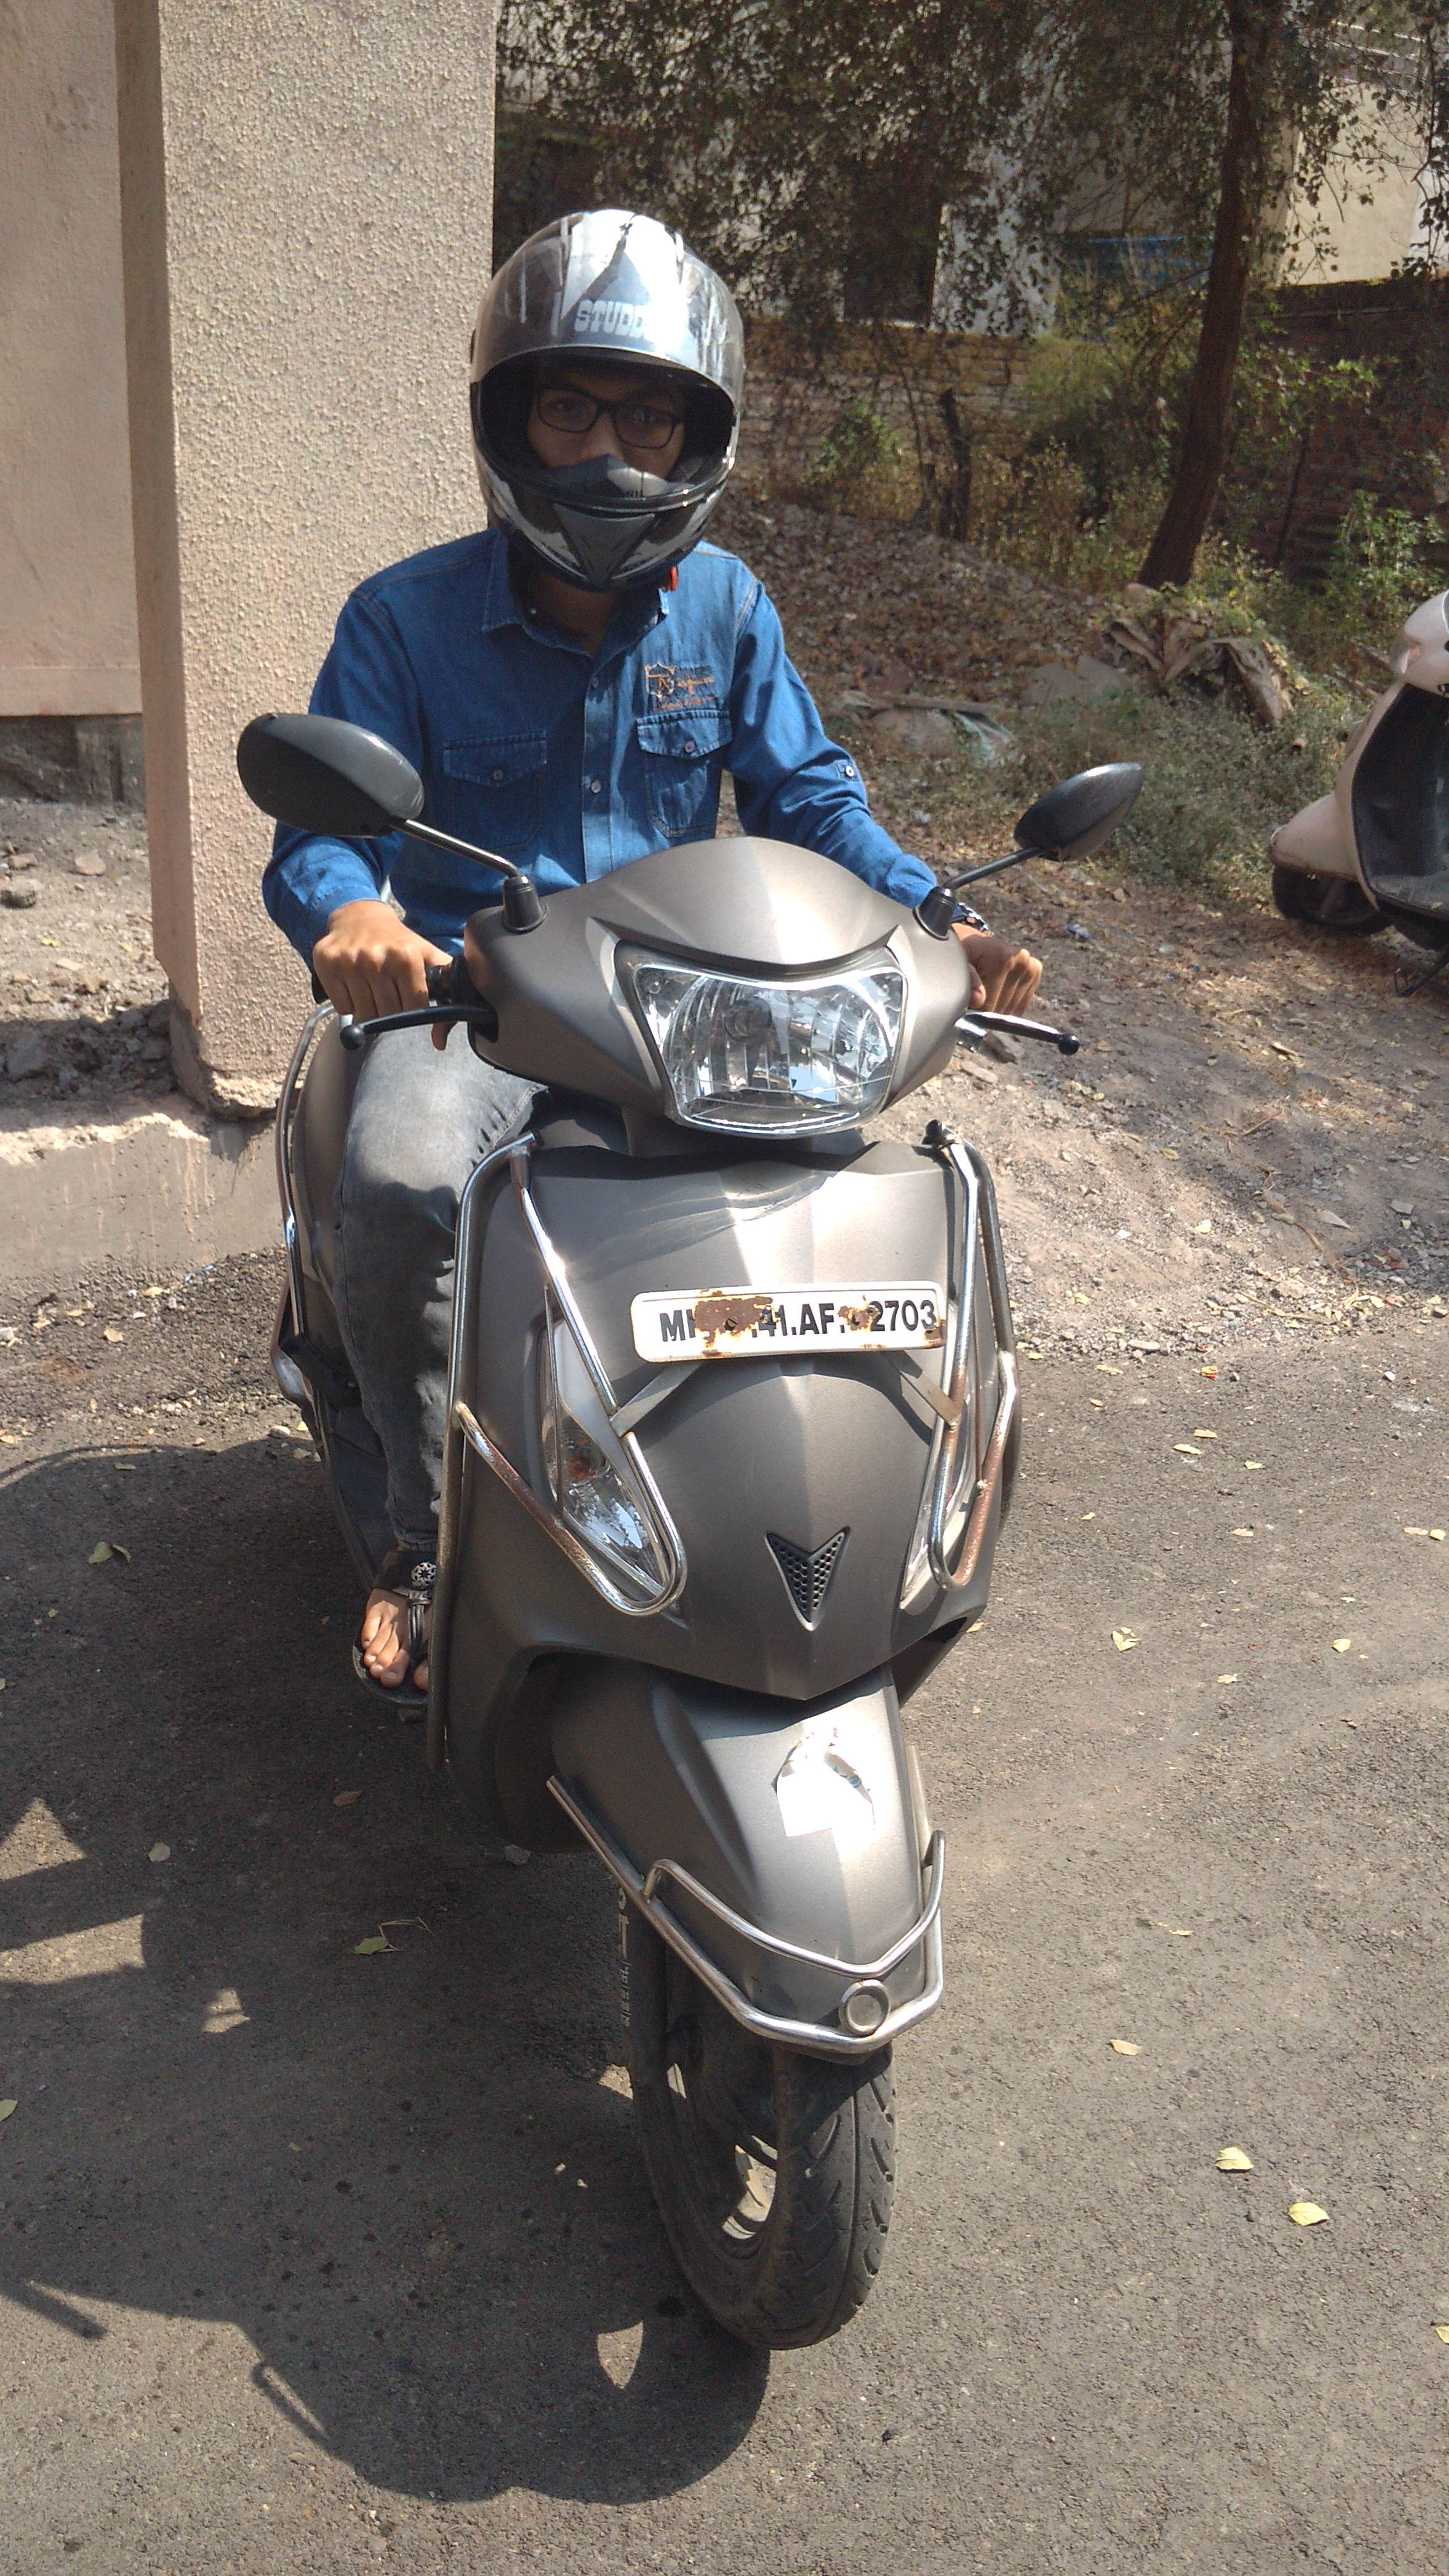helmet: (304, 214, 1001, 1449)
